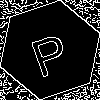P: (25, 25, 73, 78)
